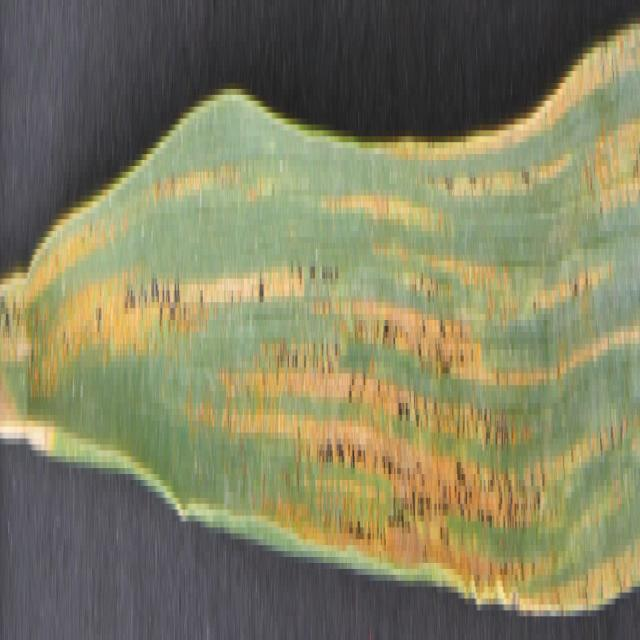leaf rust: (1, 6, 640, 593)
